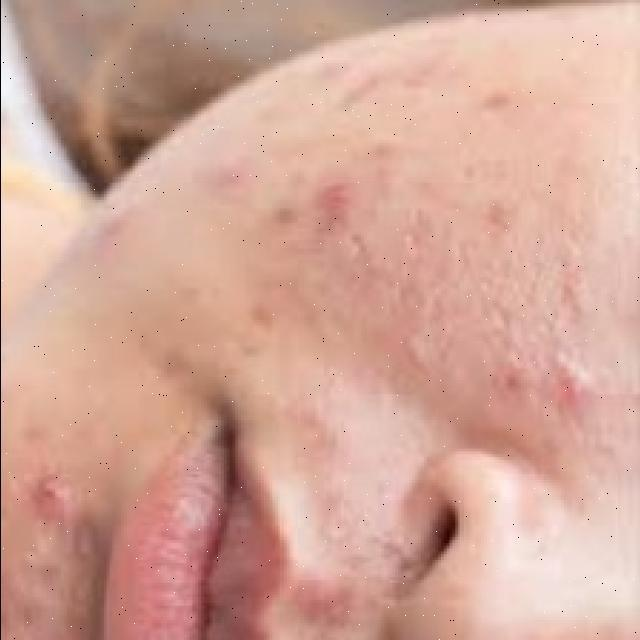Acne: (99, 56, 616, 436), (0, 464, 99, 634), (301, 505, 421, 614)
